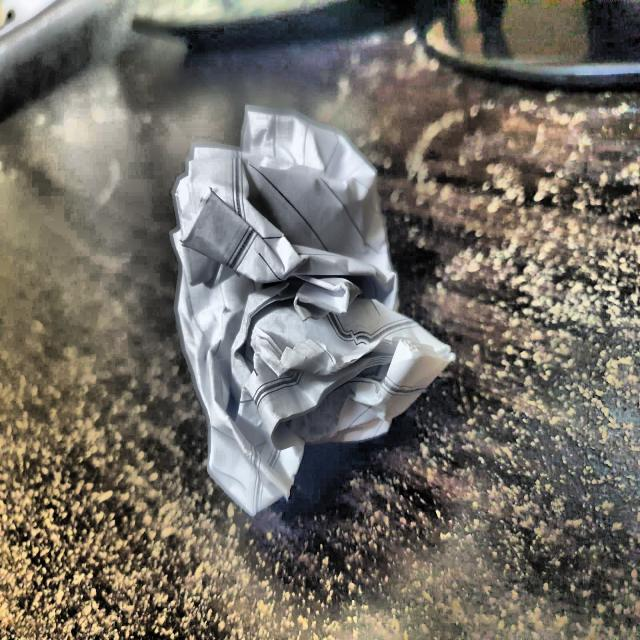Paper: (171, 100, 461, 513)
